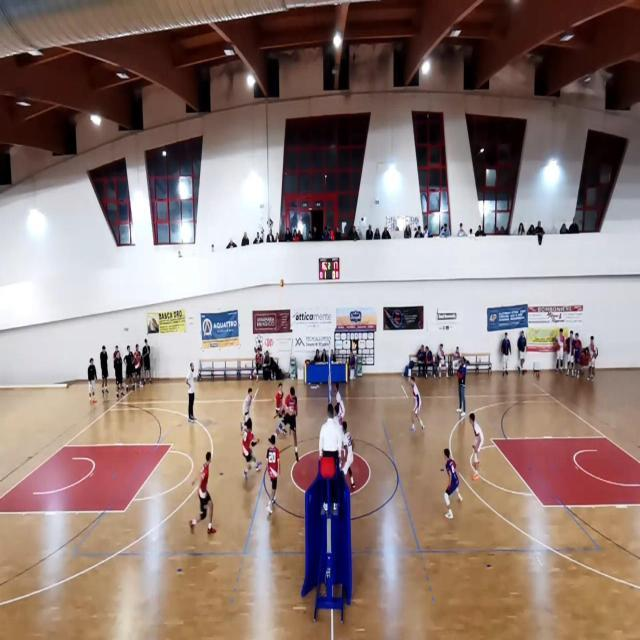volleyball: (279, 278, 285, 288)
